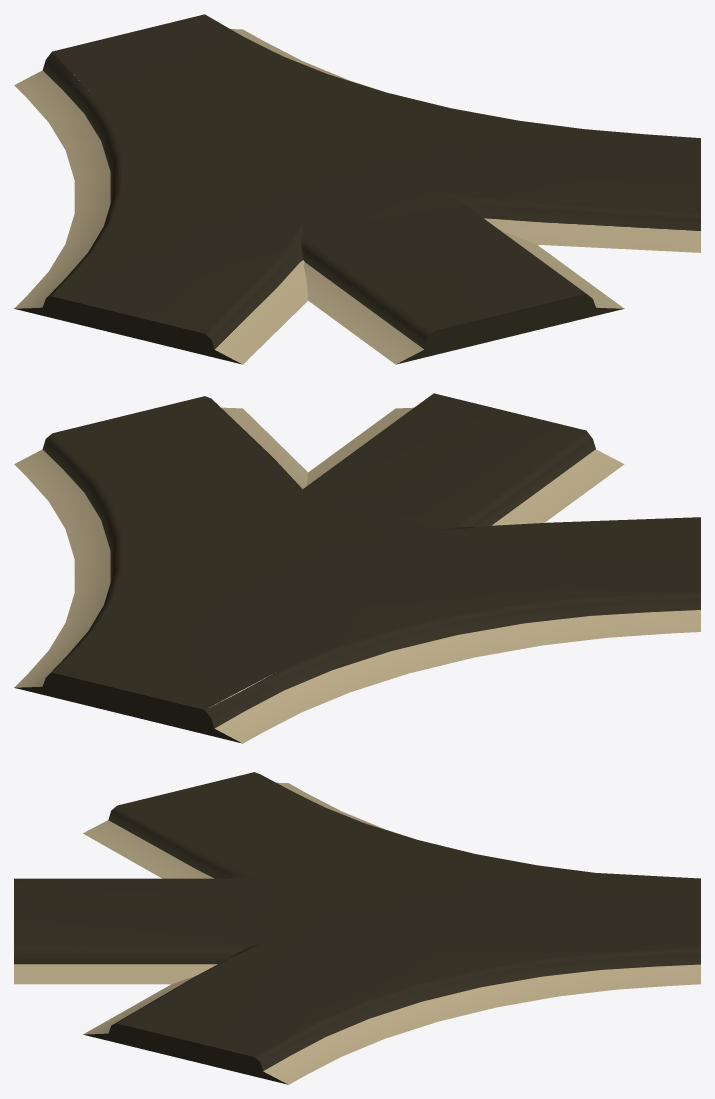
Rendered from Road_Tree.fbx.
3 views of the same model, one above another, from view 1: azimuth 30°, elevation 25°; view 2: azimuth 150°, elevation 25°; view 3: azimuth 270°, elevation 25° (orthographic). The views are drawn at different scales.
Visible parts, largest first — view 1: Road_Tree; view 2: Road_Tree; view 3: Road_Tree.
Boxes of the visible parts, x1=… form: Road_Tree: x1=14, y1=14, x2=700, y2=364; Road_Tree: x1=14, y1=393, x2=700, y2=743; Road_Tree: x1=14, y1=772, x2=700, y2=1084.
Size of the model in its own units: 0.9 by 0.0318 by 0.866.
